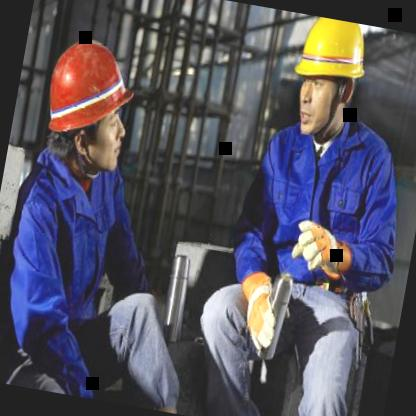helmet: (24, 13, 152, 188), (278, 13, 378, 149)
